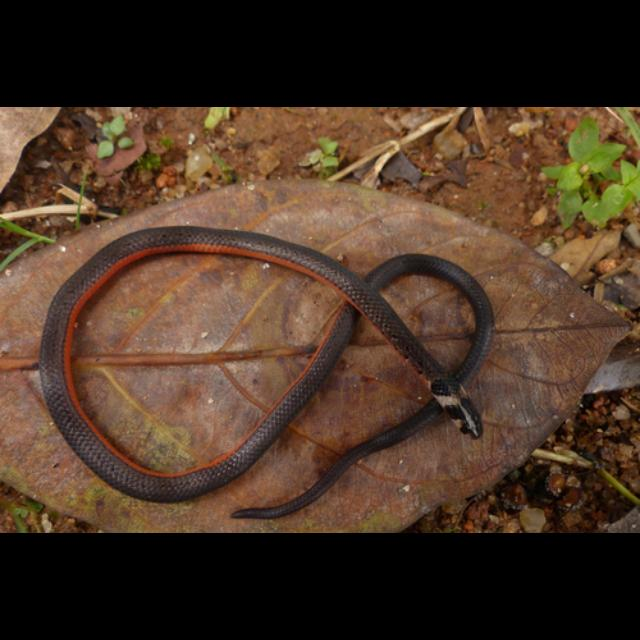snake: (36, 222, 500, 522)
